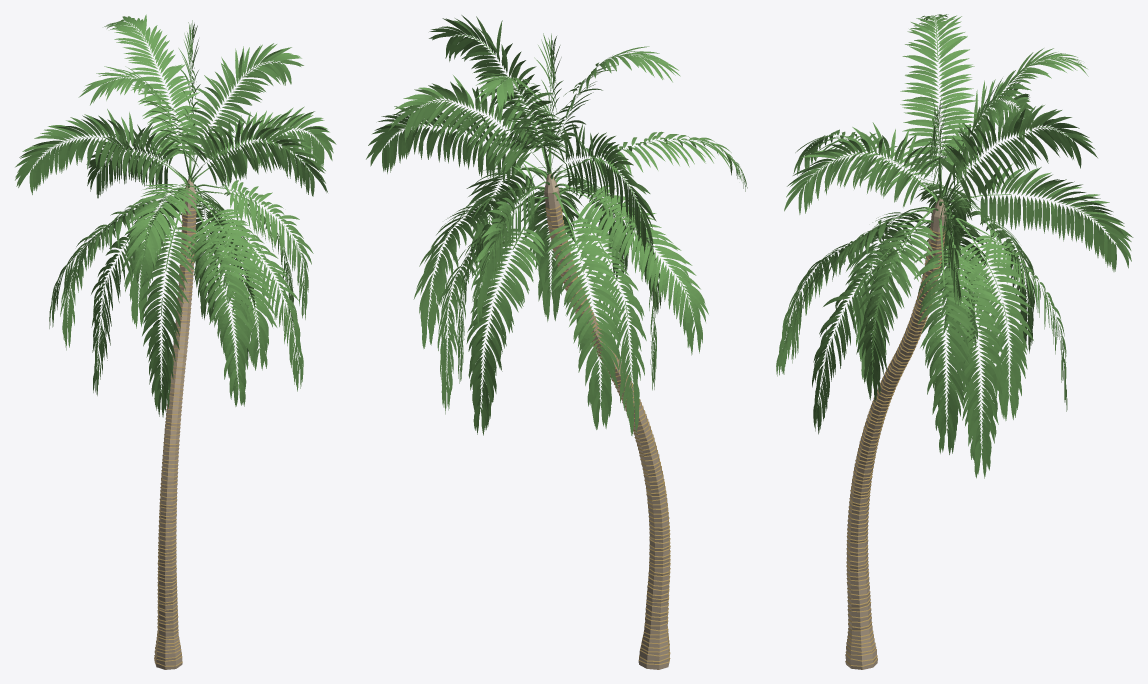
Rendered from coconut-tree.glb.
3 views of the same model, side by side, from view 1: azimuth 30°, elevation 25°; view 2: azimuth 150°, elevation 25°; view 3: azimuth 270°, elevation 25° (orthographic). The views are drawn at different scales.
Visible parts, largest first — view 1: cocos; view 2: cocos; view 3: cocos.
Boxes of the visible parts, x1,y1,x2,y2 form: cocos: (15, 14, 336, 669); cocos: (366, 15, 747, 669); cocos: (776, 14, 1133, 669).
Bounding box in the file's own units: 427 × 797 × 405.
